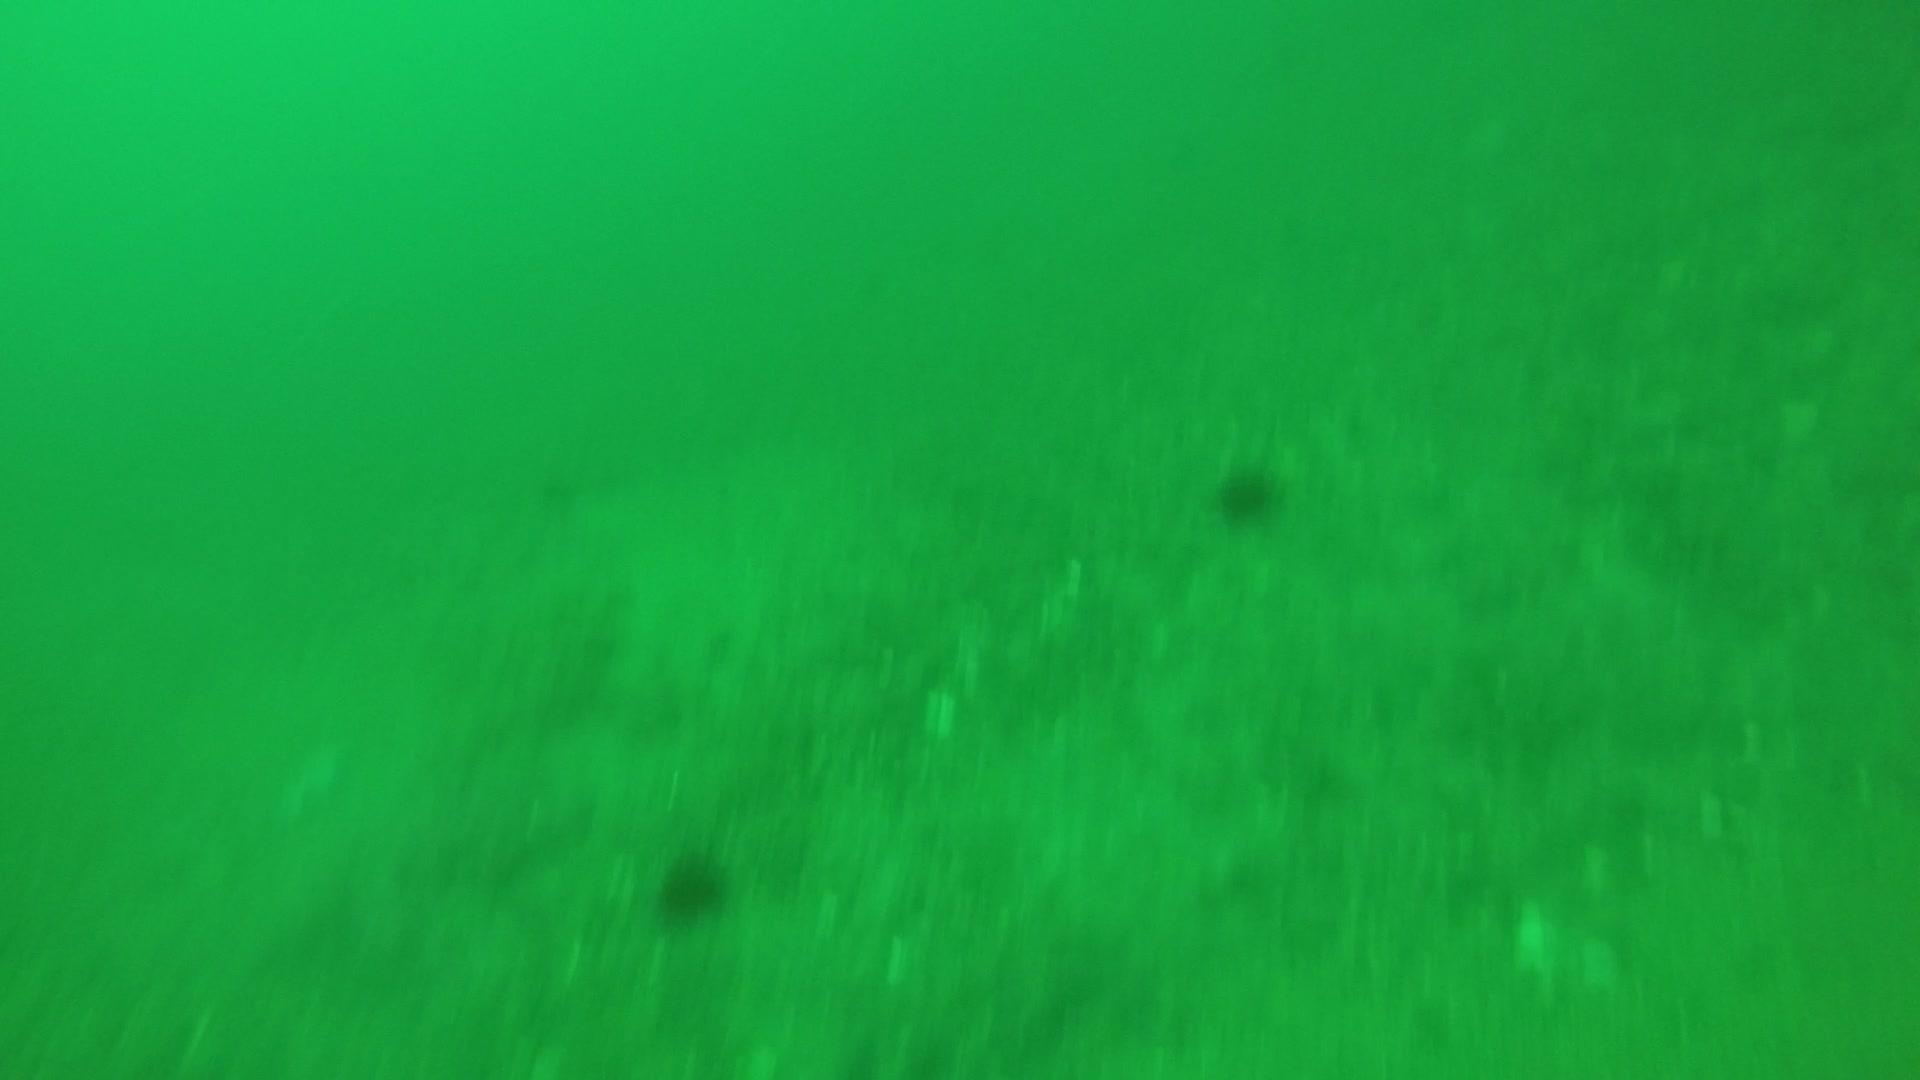echinus: (649, 843, 735, 927), (1209, 454, 1287, 527)
